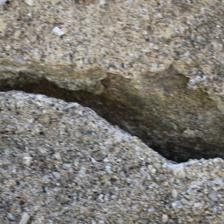Crack: (3, 33, 214, 141)
